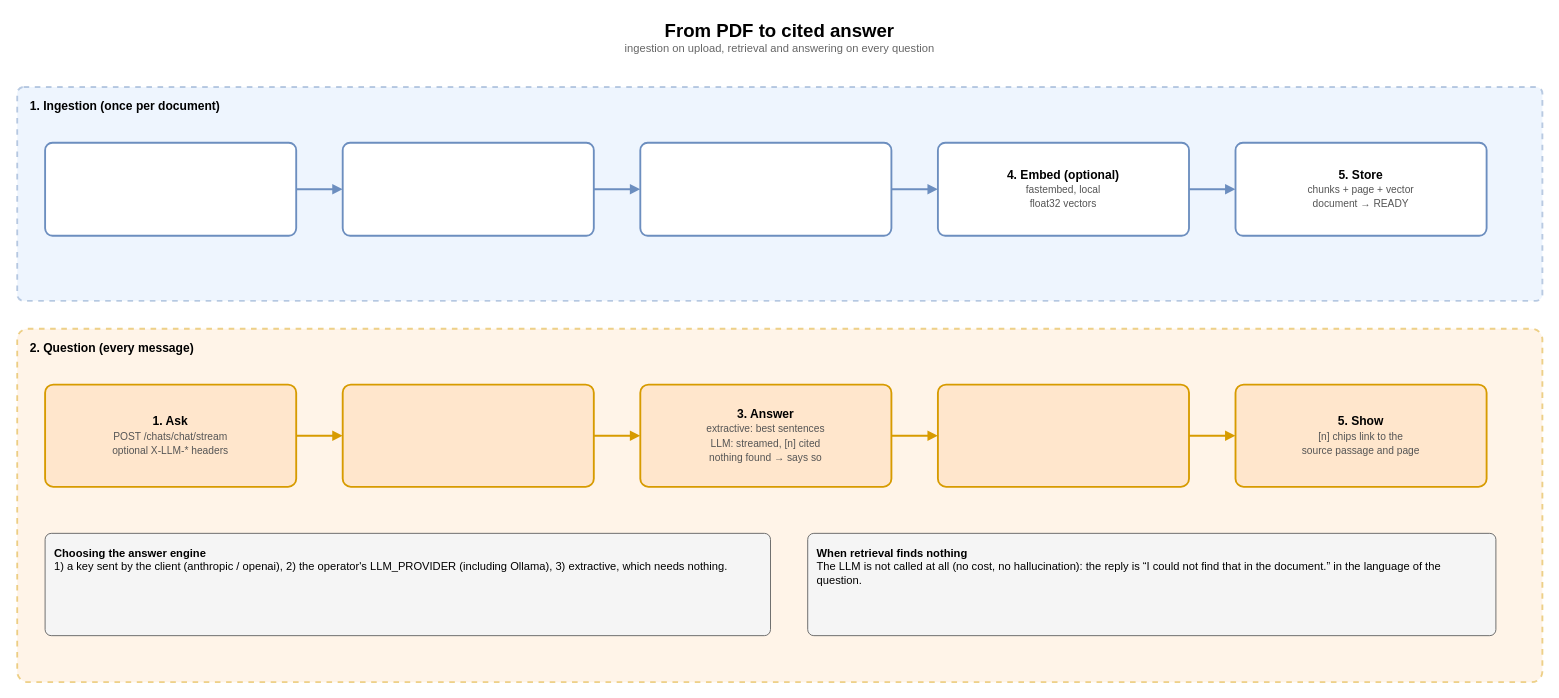
This 1559x698 diagram has some shape labels left out. Each missing label, with the box of its shape:
1. Upload PDF file, arXiv or URL validated: type, size, SSRF: (44, 141, 297, 236)
2. Extract text pypdf, page by page scanned PDFs rejected: (341, 141, 594, 236)
2. Retrieve BM25 over chunk text + cosine over vectors fused with RRF → top 5: (341, 383, 594, 487)
3. Chunk ~600 chars, 100 overlap never across pages: (639, 141, 892, 236)
4. Stream SSE events: meta (citations) · delta … · done: (937, 383, 1189, 487)
